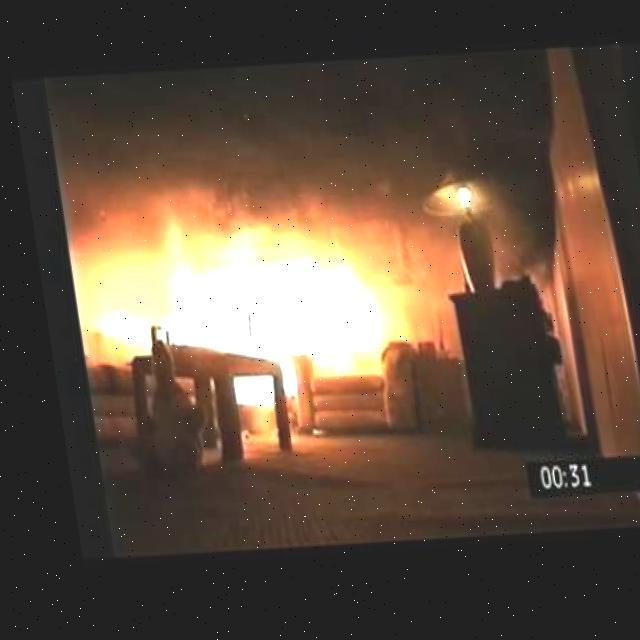Fire: (73, 209, 405, 412)
